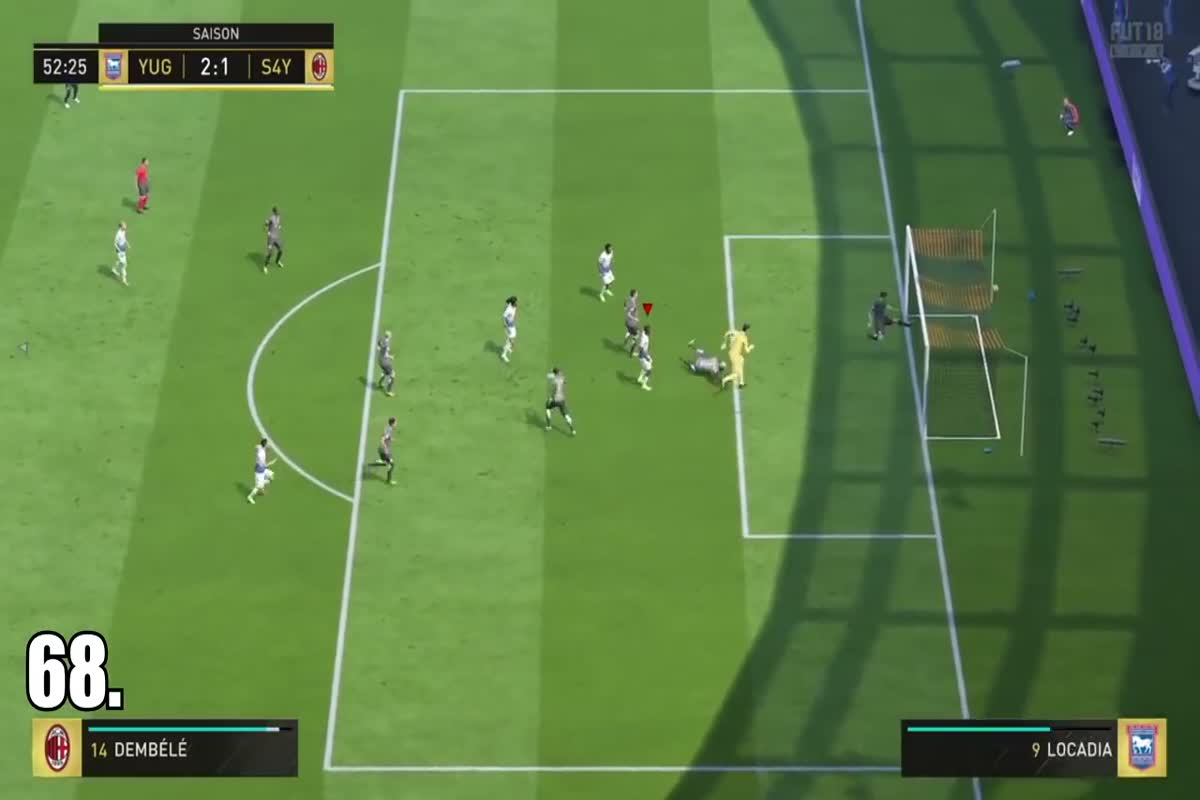ball: (987, 278, 1006, 301)
